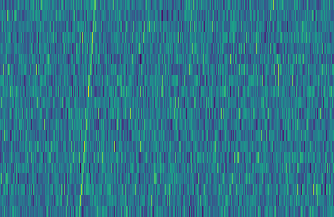signal: (169, 0, 183, 217)
